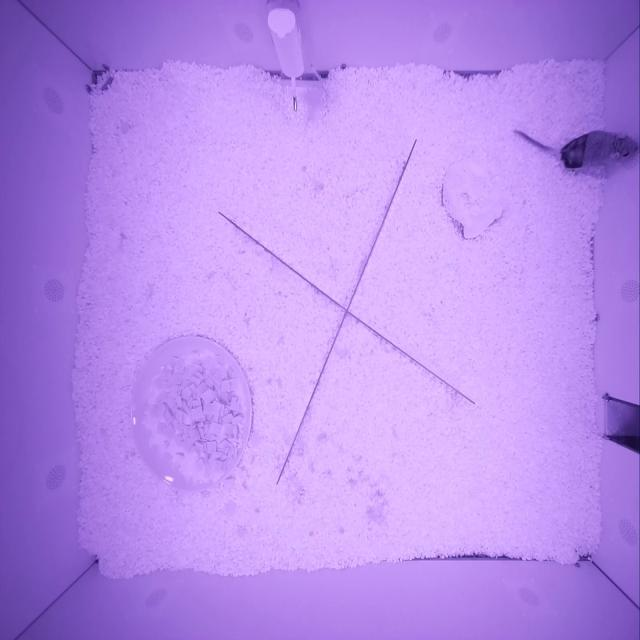adult_back: (560, 130, 639, 169)
